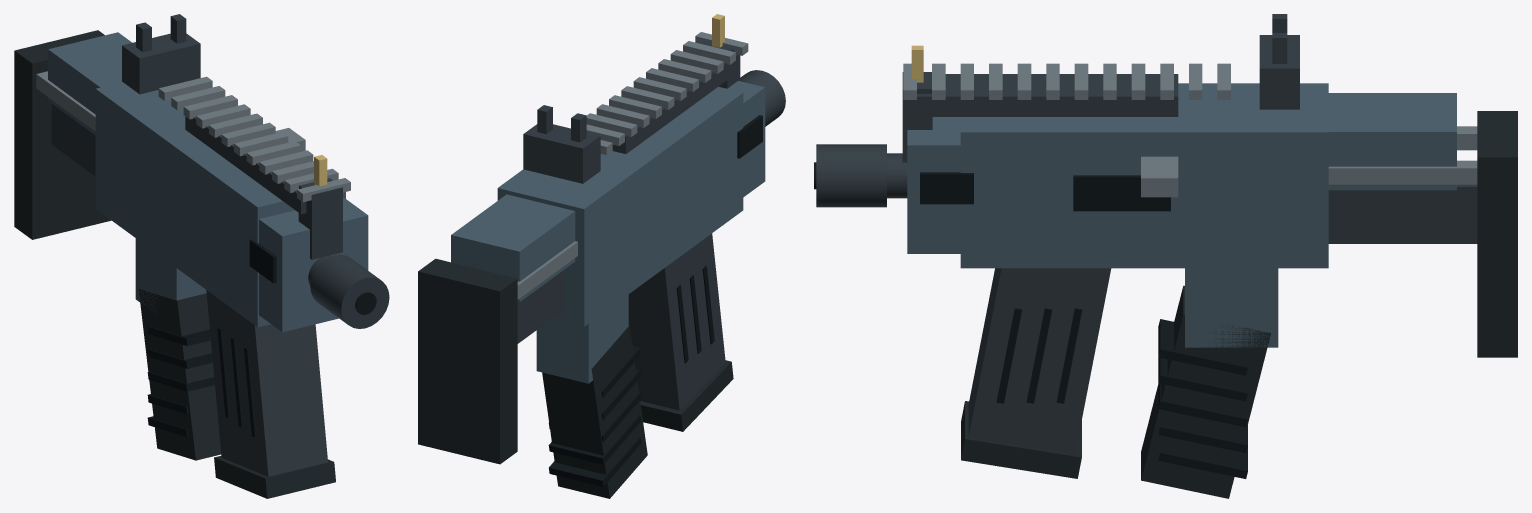
Rendered from smg_01_wasp.glb.
3 views of the same model, side by side, from view 1: azimuth 30°, elevation 25°; view 2: azimuth 150°, elevation 25°; view 3: azimuth 270°, elevation 25° (orthographic). The views are drawn at different scales.
Visible parts, largest first — view 1: receiver, magazine, buttpad, grip, handguard, cheek_rest, muzzle_device, rear_sight_base, magazine_base, grip_tang, front_sight_base, upper_rail (+23 smaller); view 2: receiver, buttpad, magazine, grip, cheek_rest, grip_tang, rear_sight_base, magazine_base, handguard, upper_rail, stock_spine, muzzle_device (+21 smaller); view 3: receiver, magazine, grip, cheek_rest, buttpad, stock_spine, upper_rail, grip_tang, handguard, muzzle_device, magazine_base, stock_rod_R (+13 smaller).
Part boxes in pixels (x1,y1,x2,y2): receiver: (95,82,345,327); magazine: (206,290,327,476); buttpad: (14,30,111,239); grip: (138,289,221,460); handguard: (259,198,368,332); cheek_rest: (48,32,131,135); muzzle_device: (310,254,389,328); rear_sight_base: (122,33,200,94); magazine_base: (214,456,335,498); grip_tang: (135,238,206,314); front_sight_base: (298,178,342,259); upper_rail: (185,116,306,214); receiver: (497,86,743,326); buttpad: (418,258,517,464); magazine: (628,233,725,410); grip: (542,325,647,498); cheek_rest: (451,194,575,302); grip_tang: (536,294,628,383); rear_sight_base: (523,124,600,183); magazine_base: (640,360,733,431); handguard: (727,81,765,197); upper_rail: (612,53,739,153); stock_spine: (517,271,562,343); muzzle_device: (740,70,785,126); receiver: (960,83,1328,268); magazine: (968,268,1111,453); grip: (1141,285,1270,498); cheek_rest: (1328,93,1456,190); buttpad: (1477,111,1517,357); stock_spine: (1328,184,1477,243); upper_rail: (915,74,1178,116); grip_tang: (1185,268,1278,347); handguard: (907,117,960,253); muzzle_device: (816,144,886,207); magazine_base: (961,401,1081,478); stock_rod_R: (1328,160,1477,184).
Size of the model in its own units: 0.113 by 0.3366 by 0.4685.
